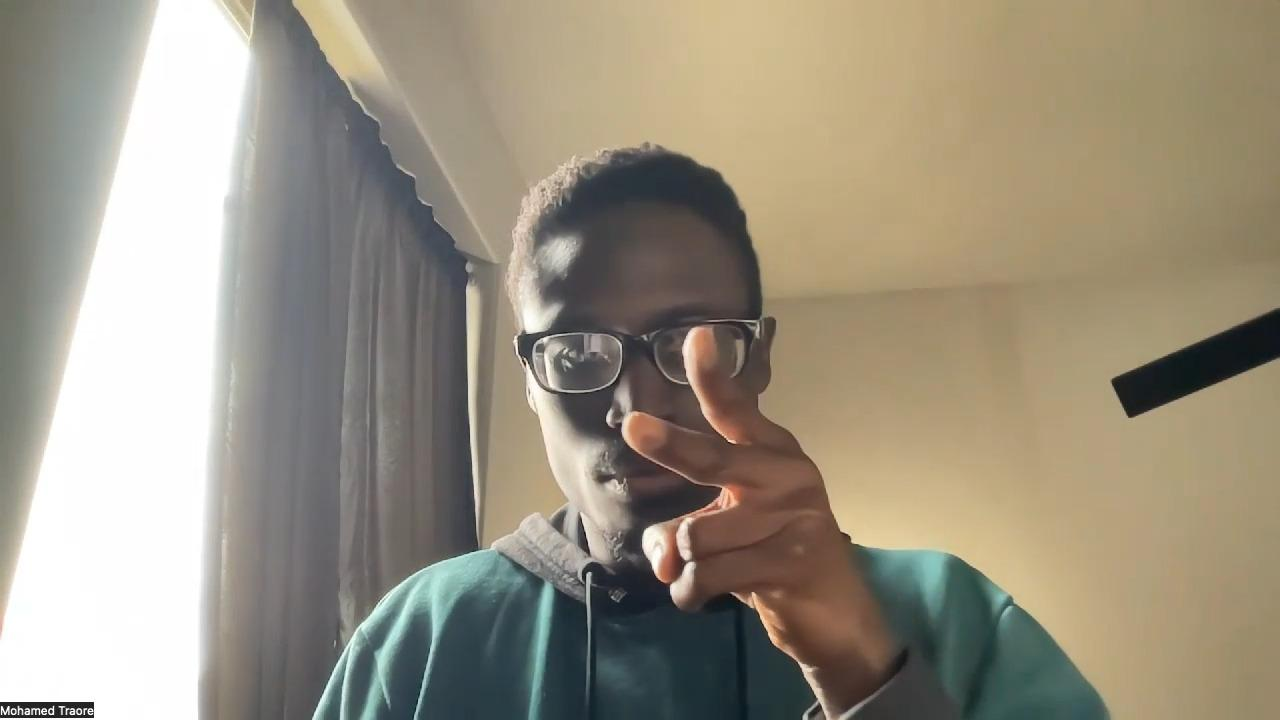Scissors: (620, 322, 874, 664)
